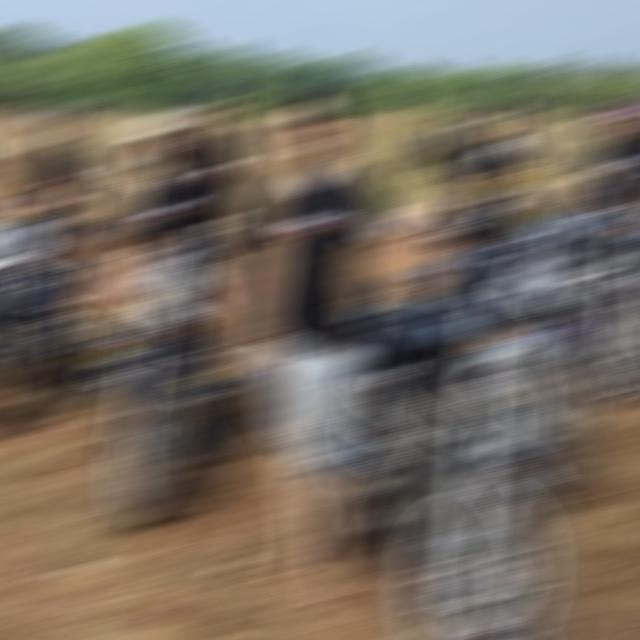Without Helmet: (268, 75, 352, 164), (468, 81, 534, 145), (125, 102, 188, 163), (18, 96, 85, 145), (184, 78, 243, 132), (593, 86, 640, 132)
